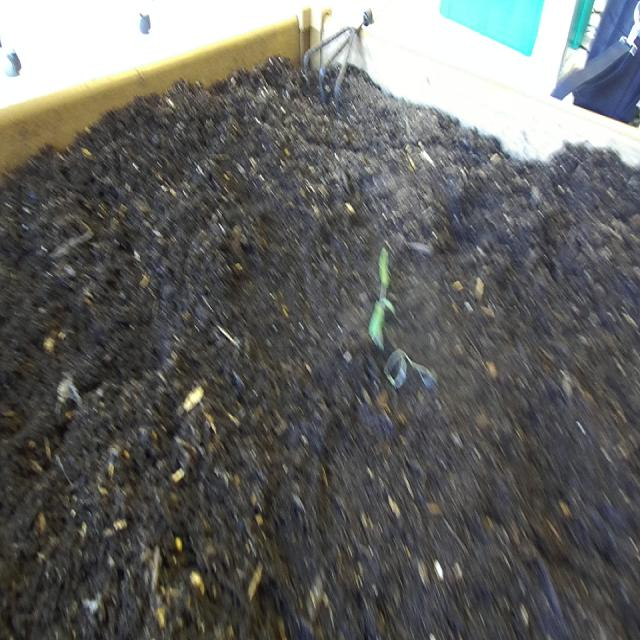Unhealthy: (361, 213, 446, 414)
